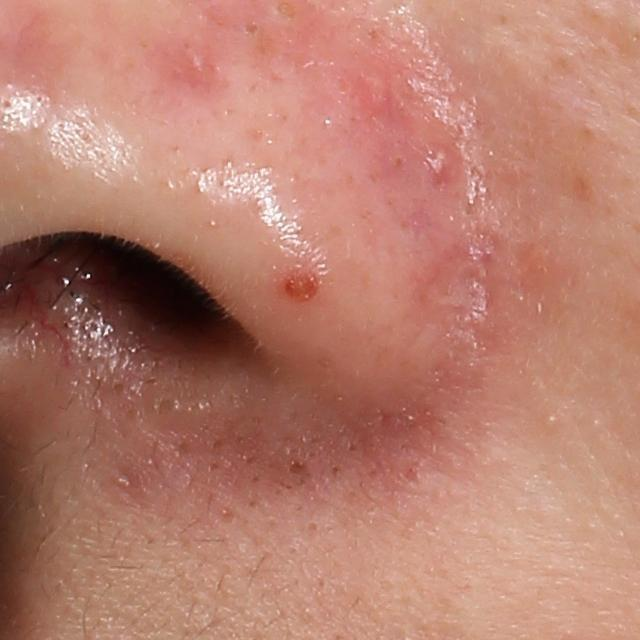comedo: (240, 11, 265, 43), (541, 413, 564, 431)
other: (267, 259, 334, 310)
papule: (425, 144, 460, 179)
